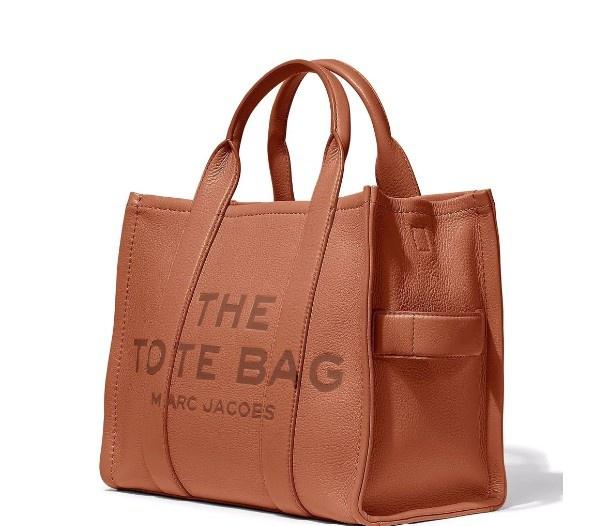MARC-JACOBS: (151, 391, 275, 420)
